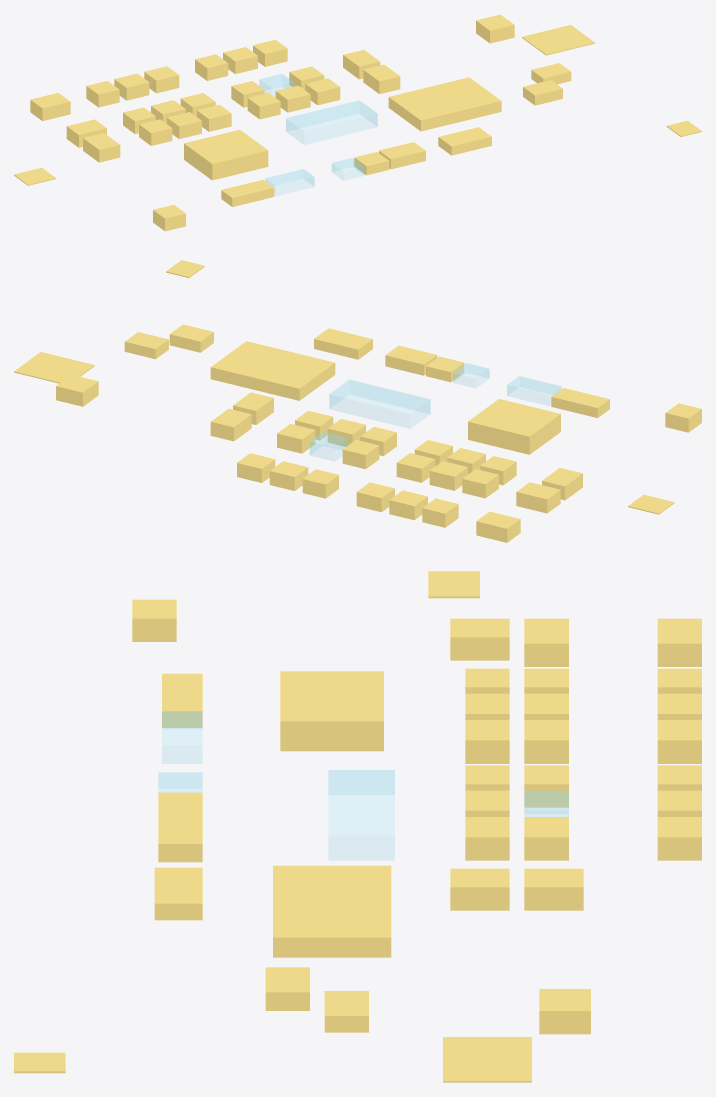
The model's file is TOWN_BuildingZones.glb.
The picture shows the model from 3 angles, top to bottom: view 1: azimuth 30°, elevation 25°; view 2: azimuth 150°, elevation 25°; view 3: azimuth 270°, elevation 25°; orthographic projection. The views are drawn at different scales.
Visible parts, largest first — view 1: ZONE_COMMERCIAL_SPARE, ZONE_MUNICIPAL_ARCHIVE, ZONE_SUPERMARKET, ZONE_QUARRY_ENTRANCE, ZONE_STOREFRONT_D, ZONE_STOREFRONT_C, ZONE_HOUSE_19, ZONE_FARMHOUSE, ZONE_PHARMACY, ZONE_STOREFRONT_B, ZONE_HOUSE_21, ZONE_HOUSE_22 (+26 smaller); view 2: ZONE_COMMERCIAL_SPARE, ZONE_MUNICIPAL_ARCHIVE, ZONE_SUPERMARKET, ZONE_QUARRY_ENTRANCE, ZONE_STOREFRONT_D, ZONE_STOREFRONT_C, ZONE_HOUSE_20, ZONE_HOUSE_19, ZONE_FARMHOUSE, ZONE_PHARMACY, ZONE_STOREFRONT_B, ZONE_HOUSE_23 (+26 smaller); view 3: ZONE_COMMERCIAL_SPARE, ZONE_MUNICIPAL_ARCHIVE, ZONE_SUPERMARKET, ZONE_QUARRY_ENTRANCE, ZONE_STOREFRONT_D, ZONE_HOUSE_21, ZONE_HOUSE_22, ZONE_HOUSE_23, ZONE_FARMHOUSE, ZONE_STOREFRONT_B, ZONE_STOREFRONT_C, ZONE_HOUSE_20 (+27 smaller).
Part boxes in pixels (x1,y1,x2,y2): ZONE_COMMERCIAL_SPARE: [388, 77, 501, 131]; ZONE_MUNICIPAL_ARCHIVE: [184, 129, 268, 180]; ZONE_SUPERMARKET: [286, 100, 377, 144]; ZONE_QUARRY_ENTRANCE: [522, 25, 595, 55]; ZONE_STOREFRONT_D: [438, 127, 491, 155]; ZONE_STOREFRONT_C: [221, 180, 274, 206]; ZONE_HOUSE_19: [30, 92, 70, 121]; ZONE_FARMHOUSE: [476, 14, 514, 43]; ZONE_PHARMACY: [265, 169, 314, 195]; ZONE_STOREFRONT_B: [379, 142, 425, 169]; ZONE_HOUSE_21: [83, 133, 120, 162]; ZONE_HOUSE_22: [363, 64, 400, 94]; ZONE_COMMERCIAL_SPARE: [210, 341, 335, 400]; ZONE_MUNICIPAL_ARCHIVE: [468, 399, 560, 454]; ZONE_SUPERMARKET: [329, 380, 430, 428]; ZONE_QUARRY_ENTRANCE: [14, 352, 94, 383]; ZONE_STOREFRONT_D: [314, 328, 372, 359]; ZONE_STOREFRONT_C: [551, 388, 609, 417]; ZONE_HOUSE_20: [516, 482, 560, 513]; ZONE_HOUSE_19: [476, 511, 520, 542]; ZONE_FARMHOUSE: [56, 374, 98, 406]; ZONE_PHARMACY: [507, 376, 561, 405]; ZONE_STOREFRONT_B: [385, 345, 437, 375]; ZONE_HOUSE_23: [210, 408, 251, 441]; ZONE_COMMERCIAL_SPARE: [273, 865, 391, 957]; ZONE_MUNICIPAL_ARCHIVE: [280, 671, 383, 751]; ZONE_SUPERMARKET: [328, 770, 394, 860]; ZONE_QUARRY_ENTRANCE: [443, 1037, 531, 1082]; ZONE_STOREFRONT_D: [154, 867, 202, 920]; ZONE_HOUSE_21: [450, 618, 509, 660]; ZONE_HOUSE_22: [450, 868, 509, 910]; ZONE_HOUSE_23: [524, 868, 583, 910]; ZONE_FARMHOUSE: [539, 989, 590, 1034]; ZONE_STOREFRONT_B: [158, 812, 202, 862]; ZONE_STOREFRONT_C: [162, 673, 202, 727]; ZONE_HOUSE_20: [524, 618, 568, 666].
Bounding box in the file's own units: 326 × 8.98 × 186.
